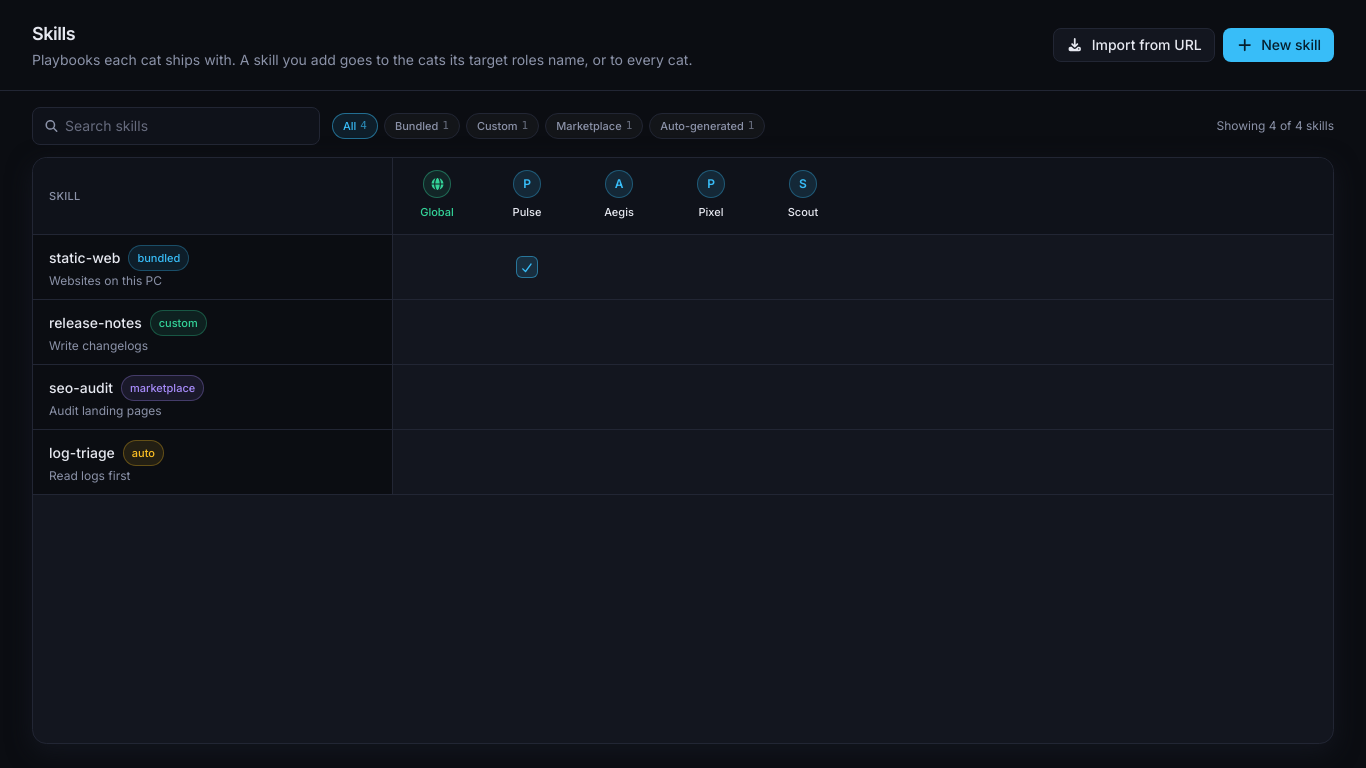
Test case: SkillsPage › drawer › deleting a custom skill asks for confirmation first
Check: the button with aria-label "Open release-notes" is shown, box [49,310,376,354]
Click the row named "Open release-notes" at (683, 332), box [33,300,1333,365]
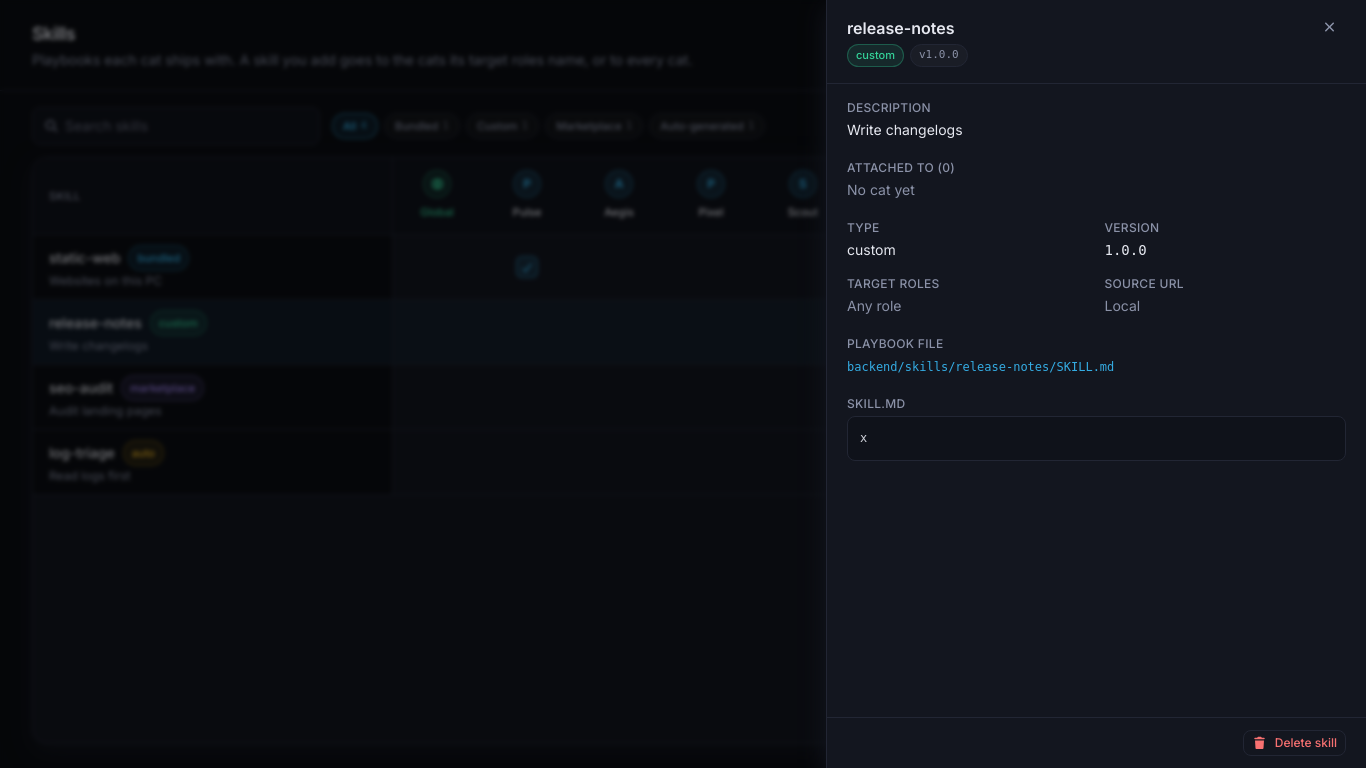
Click the button "Delete skill" at (1294, 743), box [1243,730,1346,756]
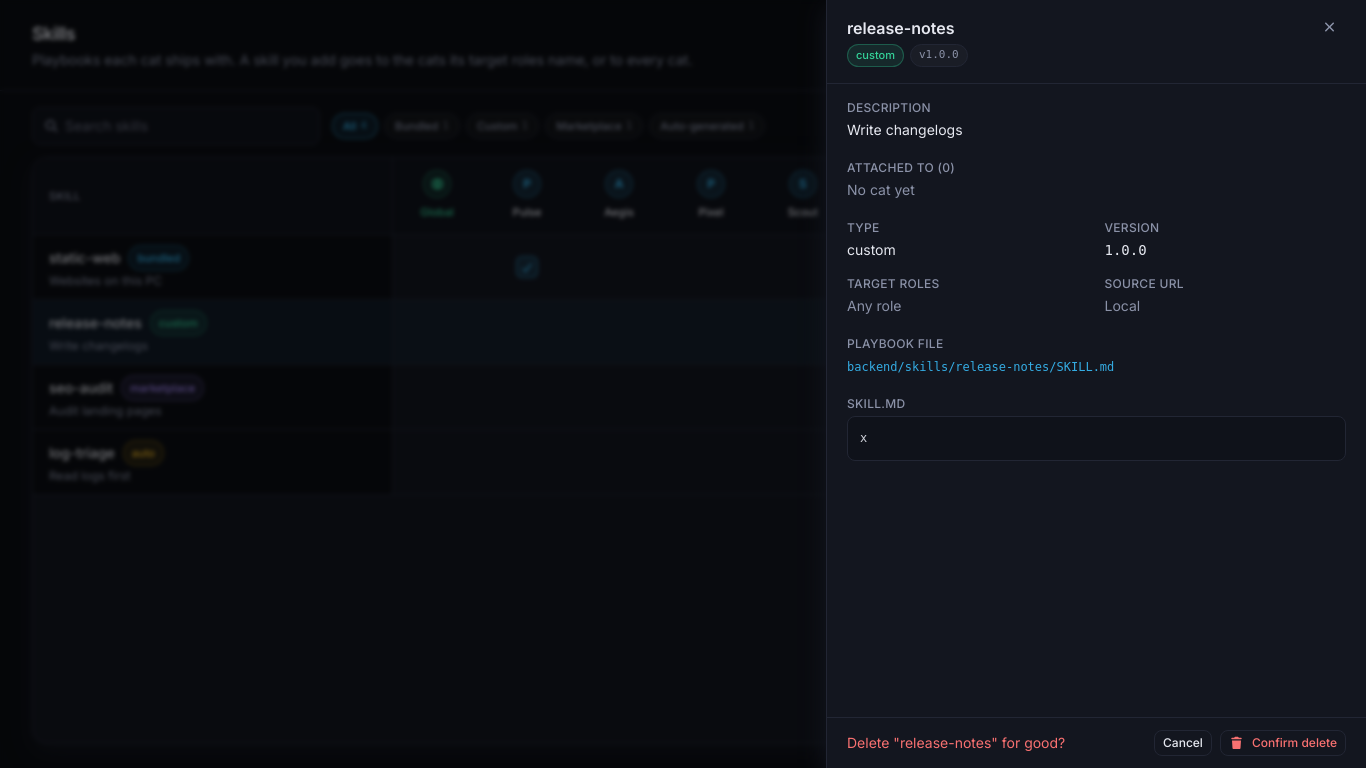
Check: the text "Delete \"release-notes\" for good?" is shown, box [847,733,1065,753]
Click the button "Cancel" at (1183, 743), box [1154,730,1212,756]
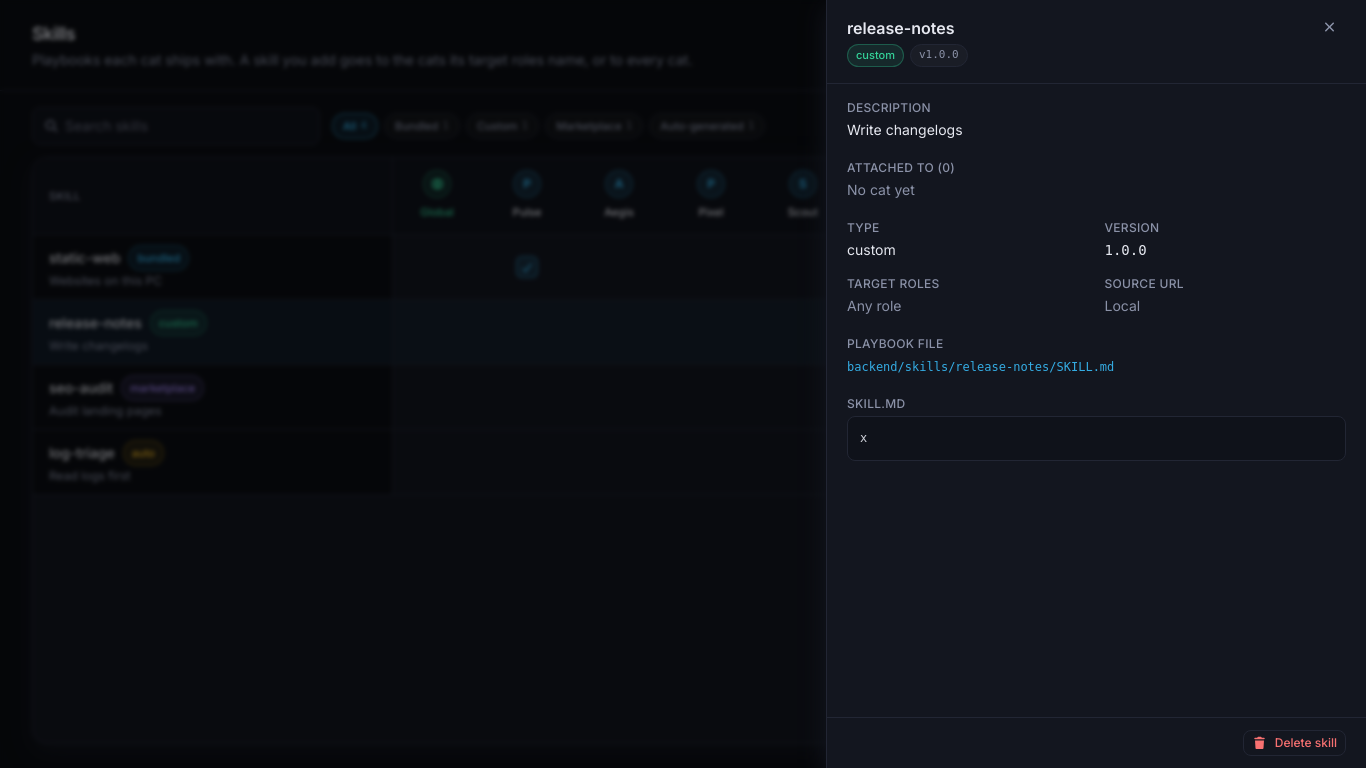
Click the button "Delete skill" at (1294, 743), box [1243,730,1346,756]
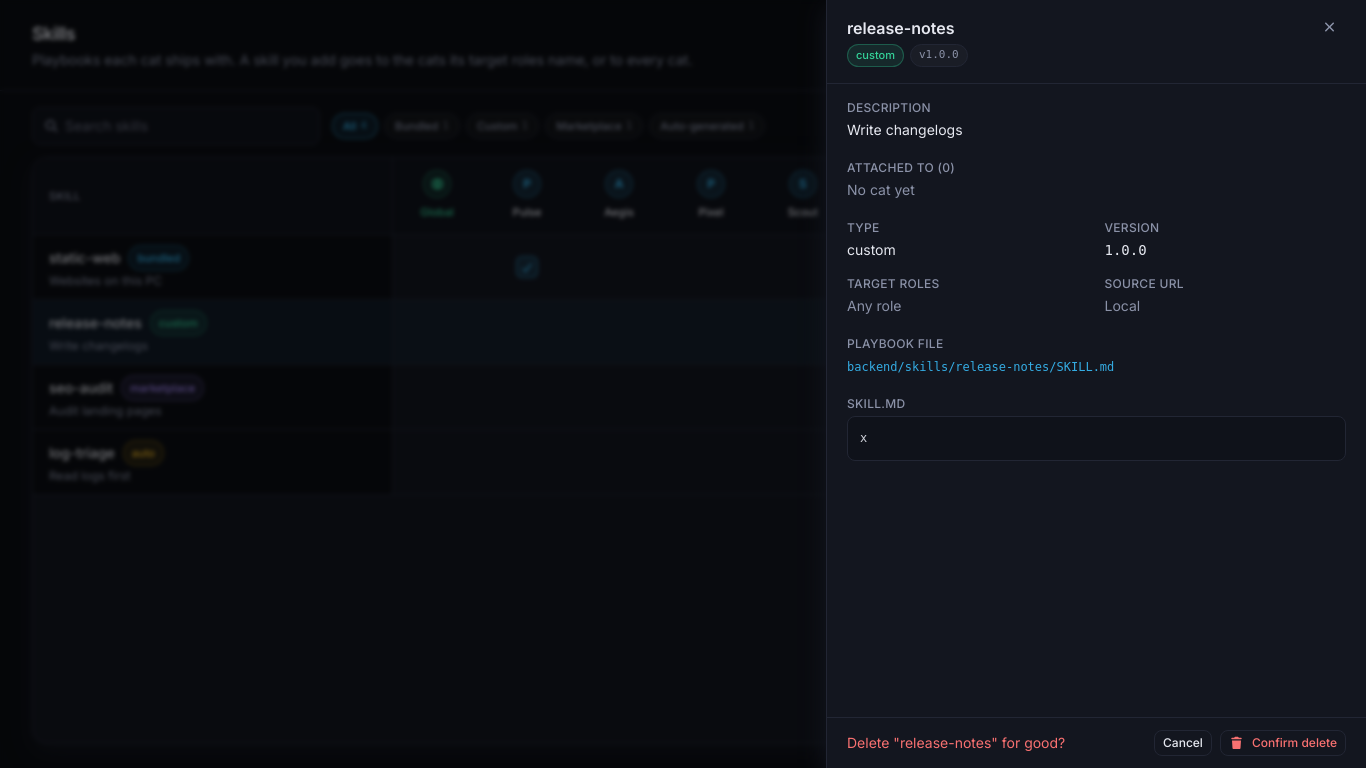
Click the button "Confirm delete" at (1283, 743), box [1220,730,1346,756]
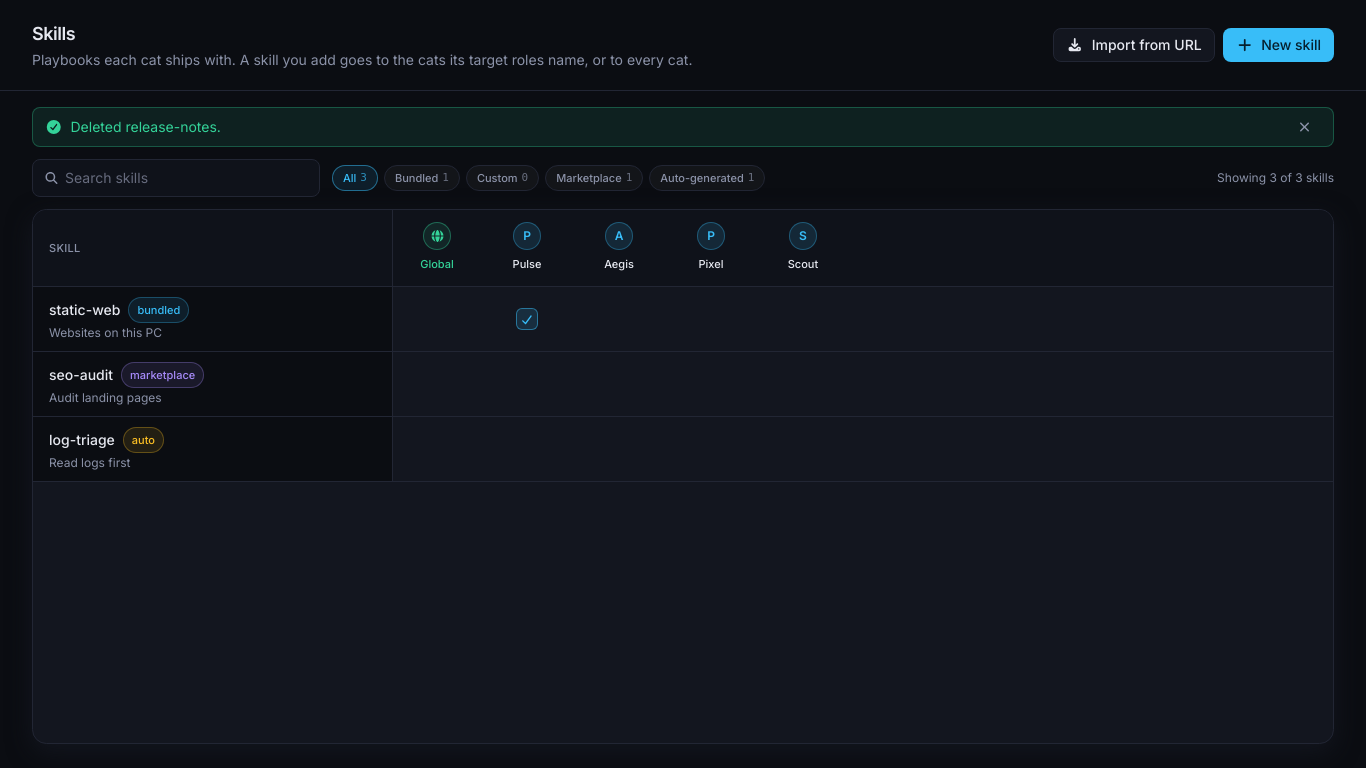
Check: the button "Open release-notes" is gone
Check: the dialog is gone
